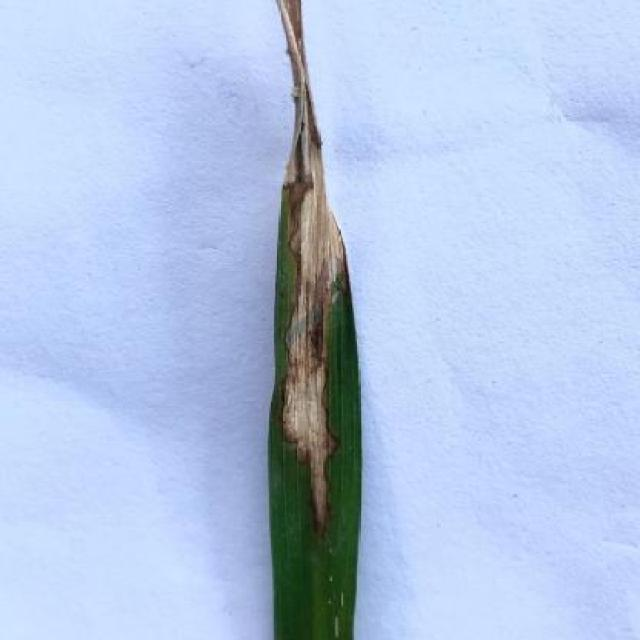Brown_Spot: (258, 0, 368, 640)
